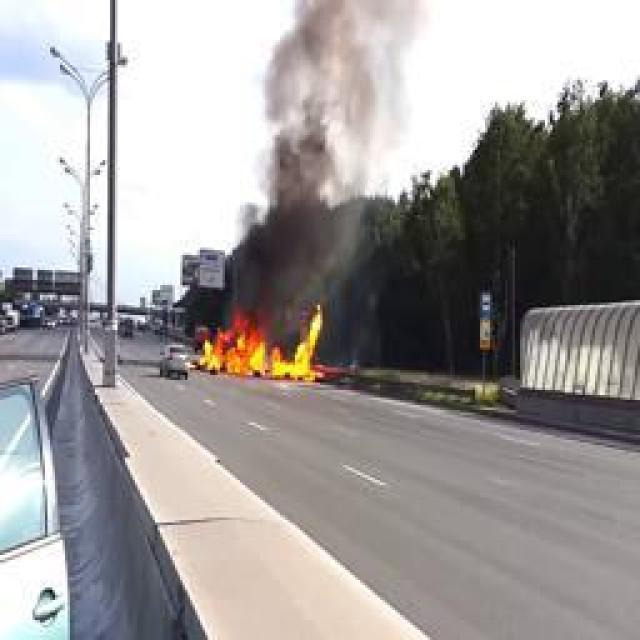Fire: (194, 305, 324, 383)
